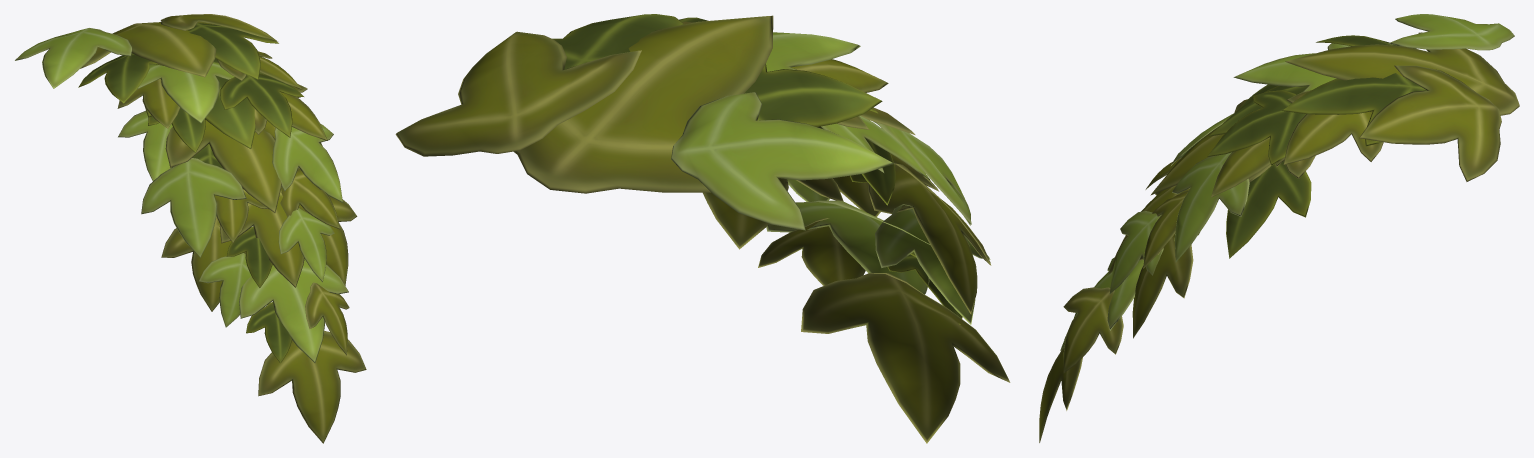
File: vineleafs.fbx
3 renders of one model, left to right at view 1: azimuth 30°, elevation 25°; view 2: azimuth 150°, elevation 25°; view 3: azimuth 270°, elevation 25°, orthographic. The views are drawn at different scales.
Parts seen in each view (by area): view 1: leafs; view 2: leafs; view 3: leafs.
Boxes of the visible parts, x1=… form: leafs: x1=15, y1=14, x2=366, y2=443; leafs: x1=395, y1=14, x2=1010, y2=443; leafs: x1=1039, y1=14, x2=1519, y2=442.
Size of the model in its own units: 12.78 by 16.42 by 18.67.
Materials: 3 (3 with a texture image).
